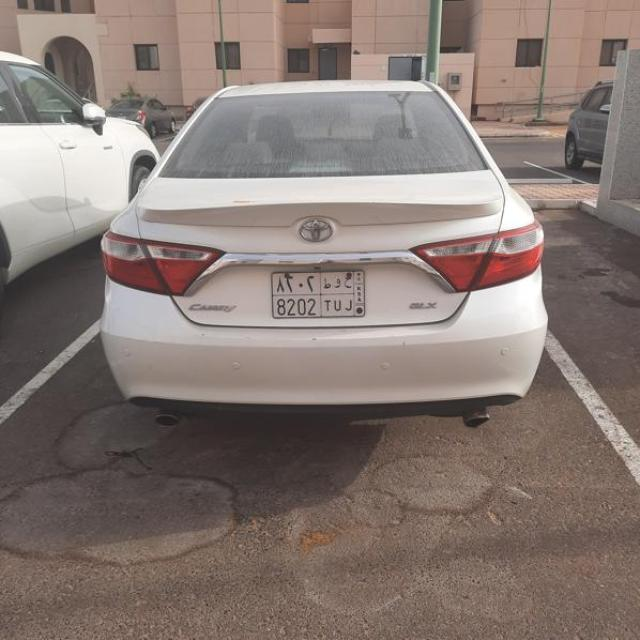license_plate: (267, 268, 367, 322)
